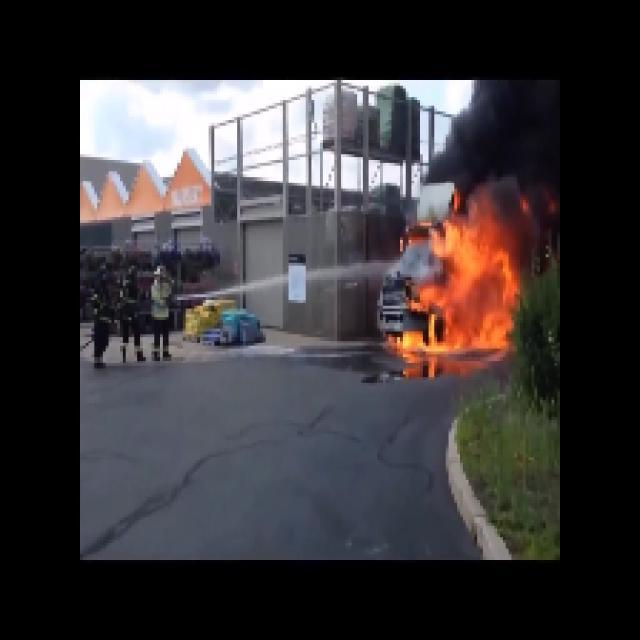Fire: (417, 228, 519, 346)
Smoke: (450, 76, 552, 210)
